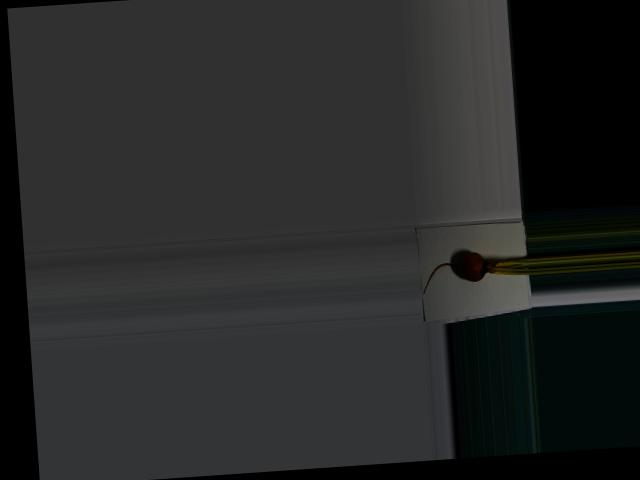beet: (420, 248, 530, 293)
